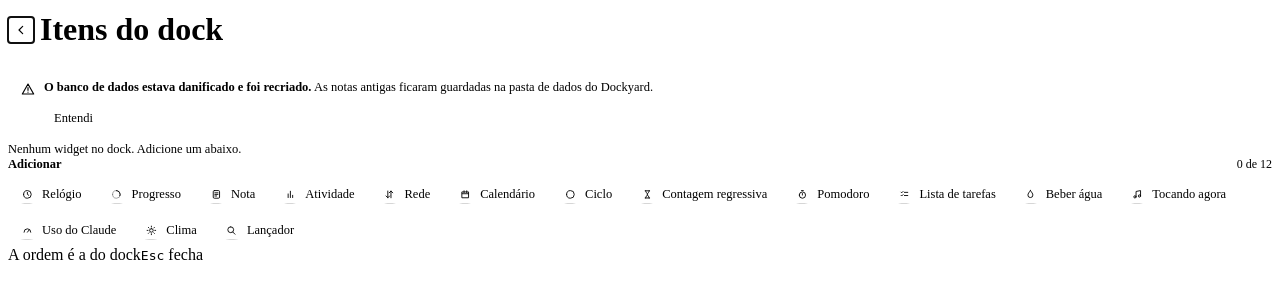
Test: DockItems › shows the reason when dismissing fails and lets it try again
What coordinates should you click on to do the following:
click the button "Entendi"
I would click on:
 (73, 118)
Its box is x1=44 y1=105 x2=103 y2=132.
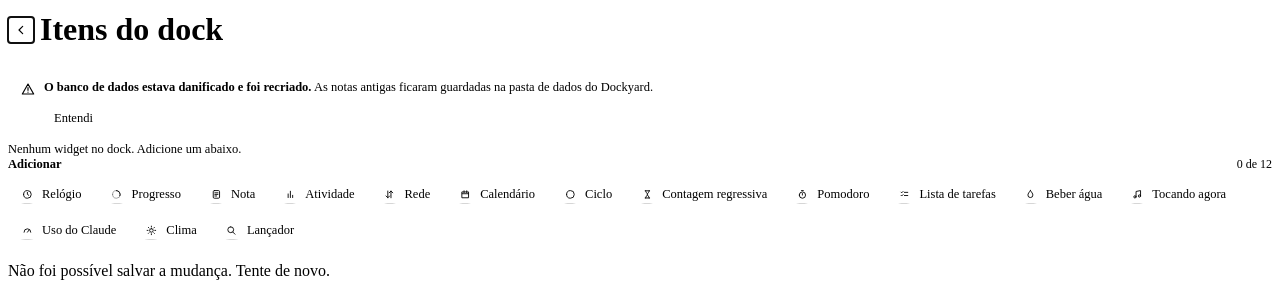
Expected: the message "Não foi possível salvar a mudança. Tente de novo." is shown, x1=8 y1=262 x2=330 y2=279
